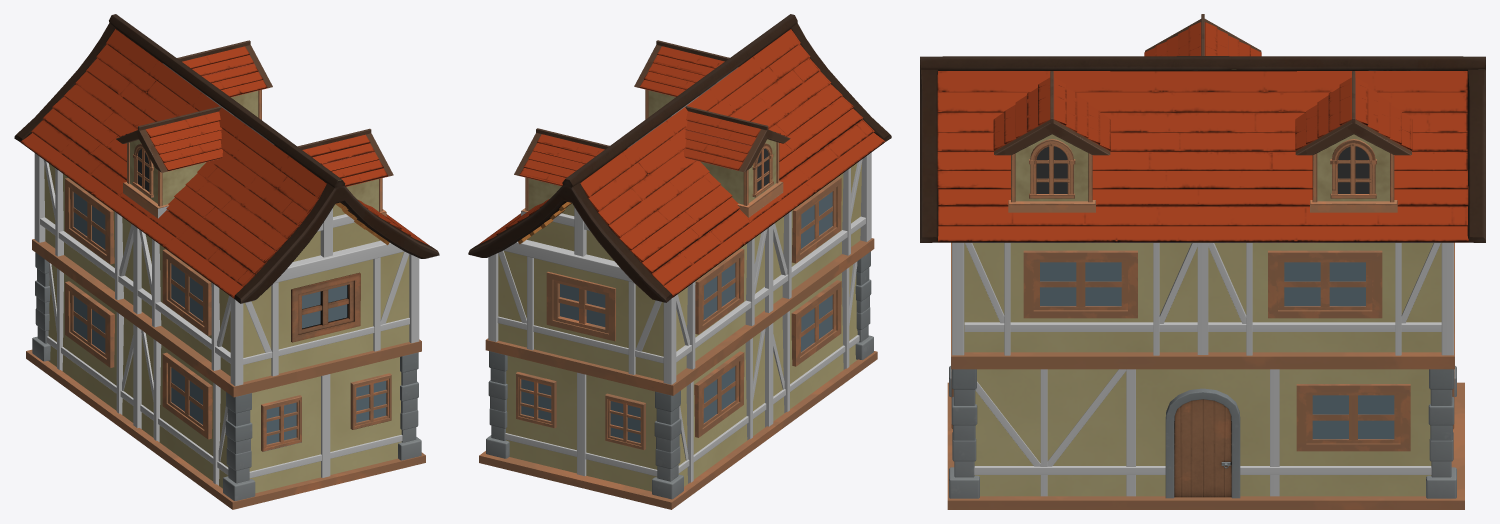
File: House01_Low.fbx
3 renders of one model, left to right at view 1: azimuth 30°, elevation 25°; view 2: azimuth 150°, elevation 25°; view 3: azimuth 270°, elevation 25°, orthographic. The views are drawn at different scales.
Parts seen in each view (by area): view 1: House01_Low; view 2: House01_Low; view 3: House01_Low.
Part boxes in pixels (x1=…): House01_Low: x1=14, y1=14, x2=439, y2=509; House01_Low: x1=468, y1=14, x2=891, y2=509; House01_Low: x1=920, y1=14, x2=1485, y2=509.
Size of the model in its own units: 634 by 949 by 1238.
